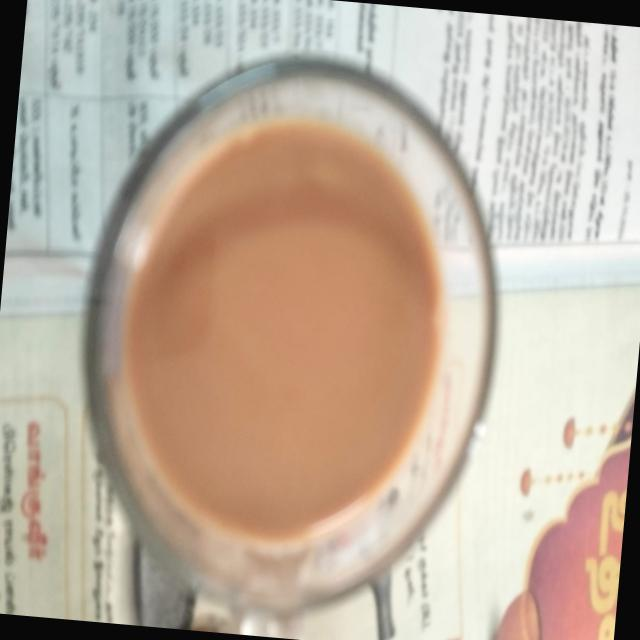glass-VX4N: (53, 41, 519, 640)
